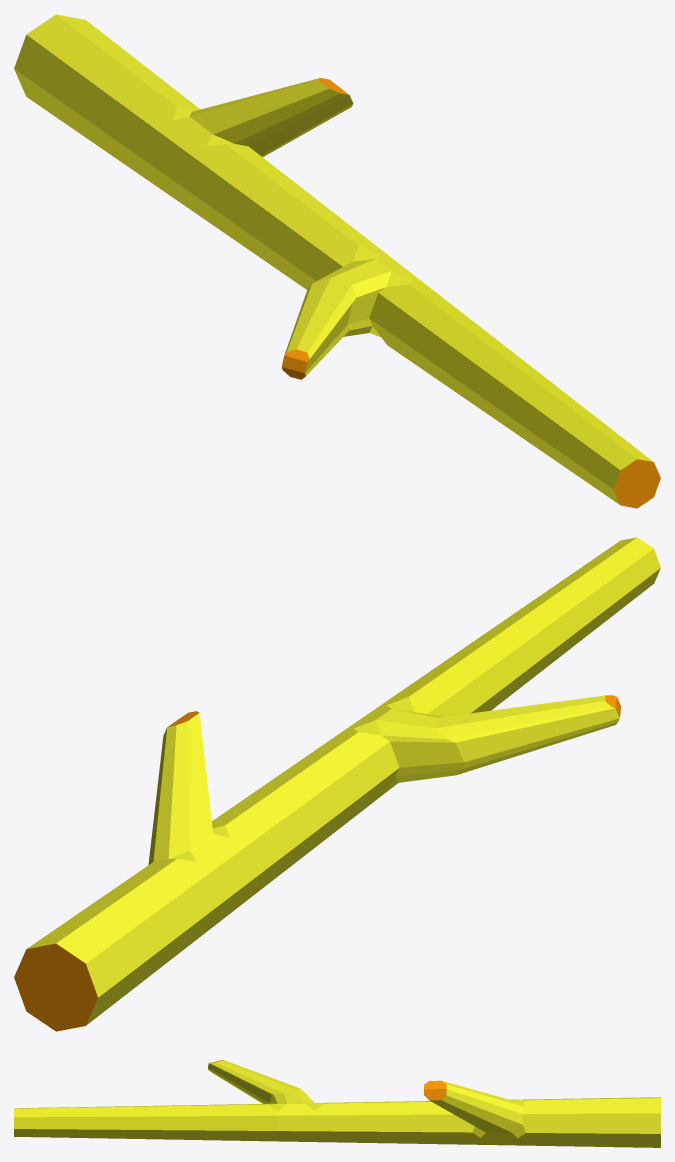
File: Stick_31.fbx
3 views of the same model, one above another, from view 1: azimuth 30°, elevation 25°; view 2: azimuth 150°, elevation 25°; view 3: azimuth 270°, elevation 25° (orthographic). The views are drawn at different scales.
Parts seen in each view (by area): view 1: Circle.320; view 2: Circle.320; view 3: Circle.320.
Part boxes in pixels (x1,y1,x2,y2): Circle.320: [14, 14, 660, 508]; Circle.320: [14, 537, 660, 1031]; Circle.320: [14, 1060, 660, 1147].
Bounding box in the file's own units: 10.4 × 5.83 × 40.73.
